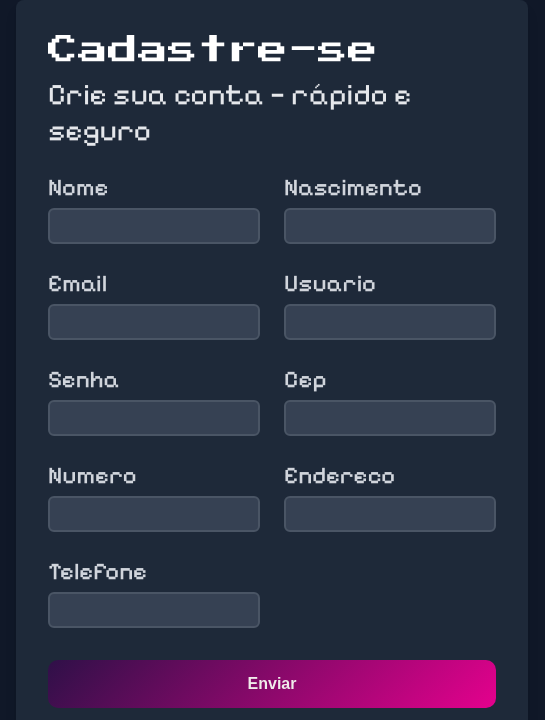
Scenario: teste para tela de cadastro - garante que nao haja inconsistencias no cadastro do usuário › verifica se a mensagem de erro aparece se a senha não ter no mínimo 8 caracteres
The image size is (545, 720).
Type "123" into the password field labelled "Senha" at [154, 418], box [48,400,260,436]
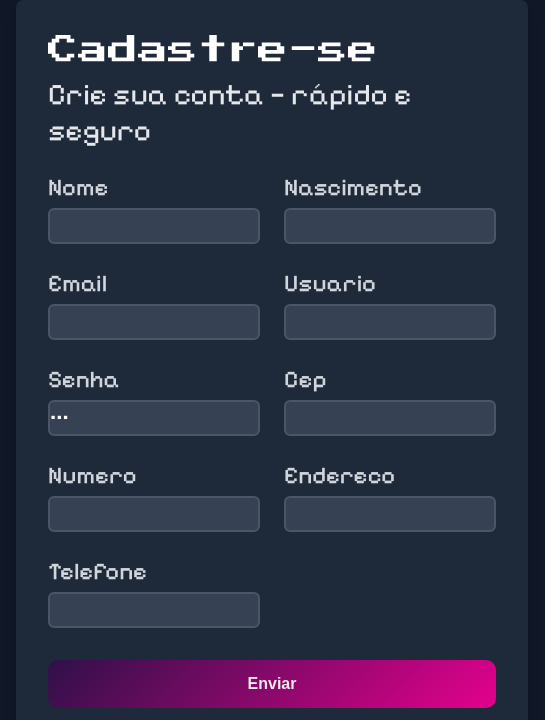
Click the button "Enviar" at [272, 684], box [48,660,496,708]
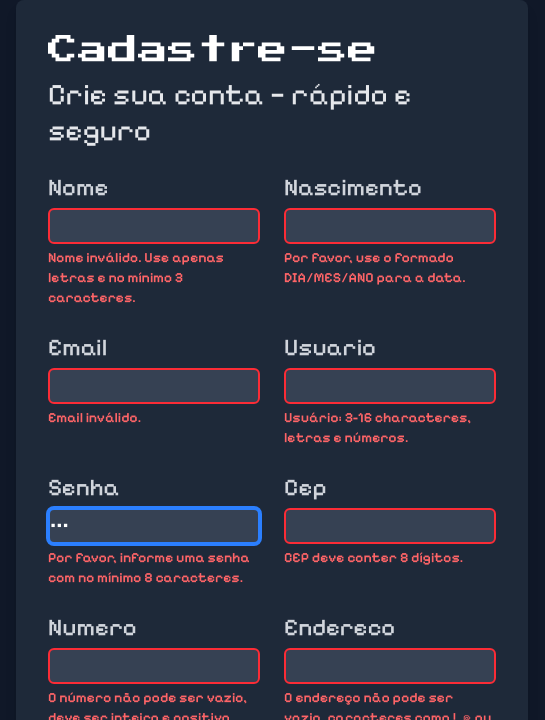
Now the text "Por favor, informe uma senha com no mínimo 8 caracteres." is shown, box [48,548,260,588]
